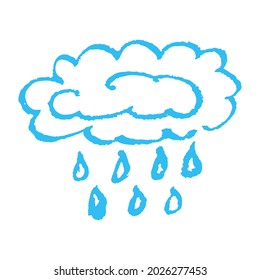cloud: (17, 39, 243, 143)
